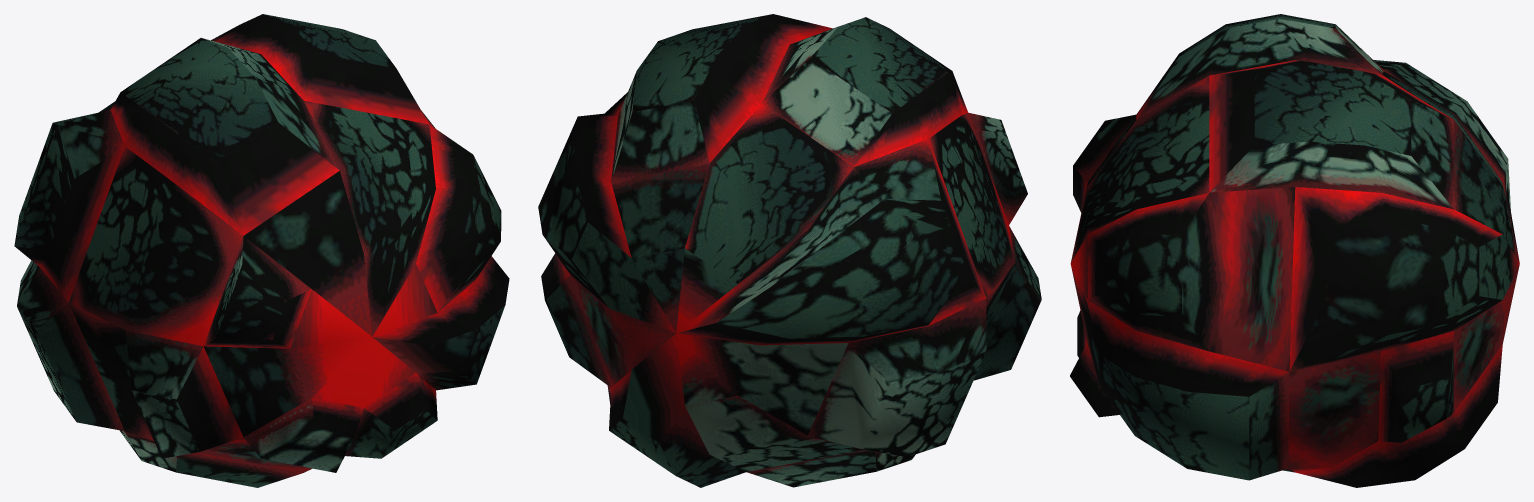
Rendered from Rock.obj.
The picture shows the model from 3 angles, left to right: view 1: azimuth 30°, elevation 25°; view 2: azimuth 150°, elevation 25°; view 3: azimuth 270°, elevation 25°; orthographic projection. The views are drawn at different scales.
Visible parts, largest first — view 1: Inst3D27_RefRep.425; view 2: Inst3D27_RefRep.425; view 3: Inst3D27_RefRep.425.
Boxes of the visible parts, left/top/right/bottom form: Inst3D27_RefRep.425: left=14, top=14, right=509, bottom=487; Inst3D27_RefRep.425: left=538, top=14, right=1041, bottom=487; Inst3D27_RefRep.425: left=1070, top=14, right=1519, bottom=487.
Bounding box in the file's own units: 1.17 × 1.18 × 1.09.
1 material, 1 textured.
